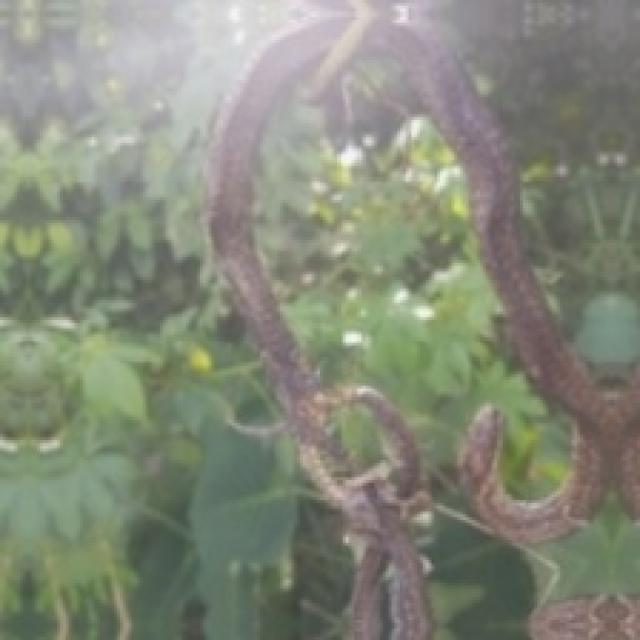reinhardts lined snake: (206, 0, 637, 637)
